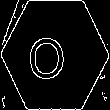O_N: (36, 29, 74, 81)
